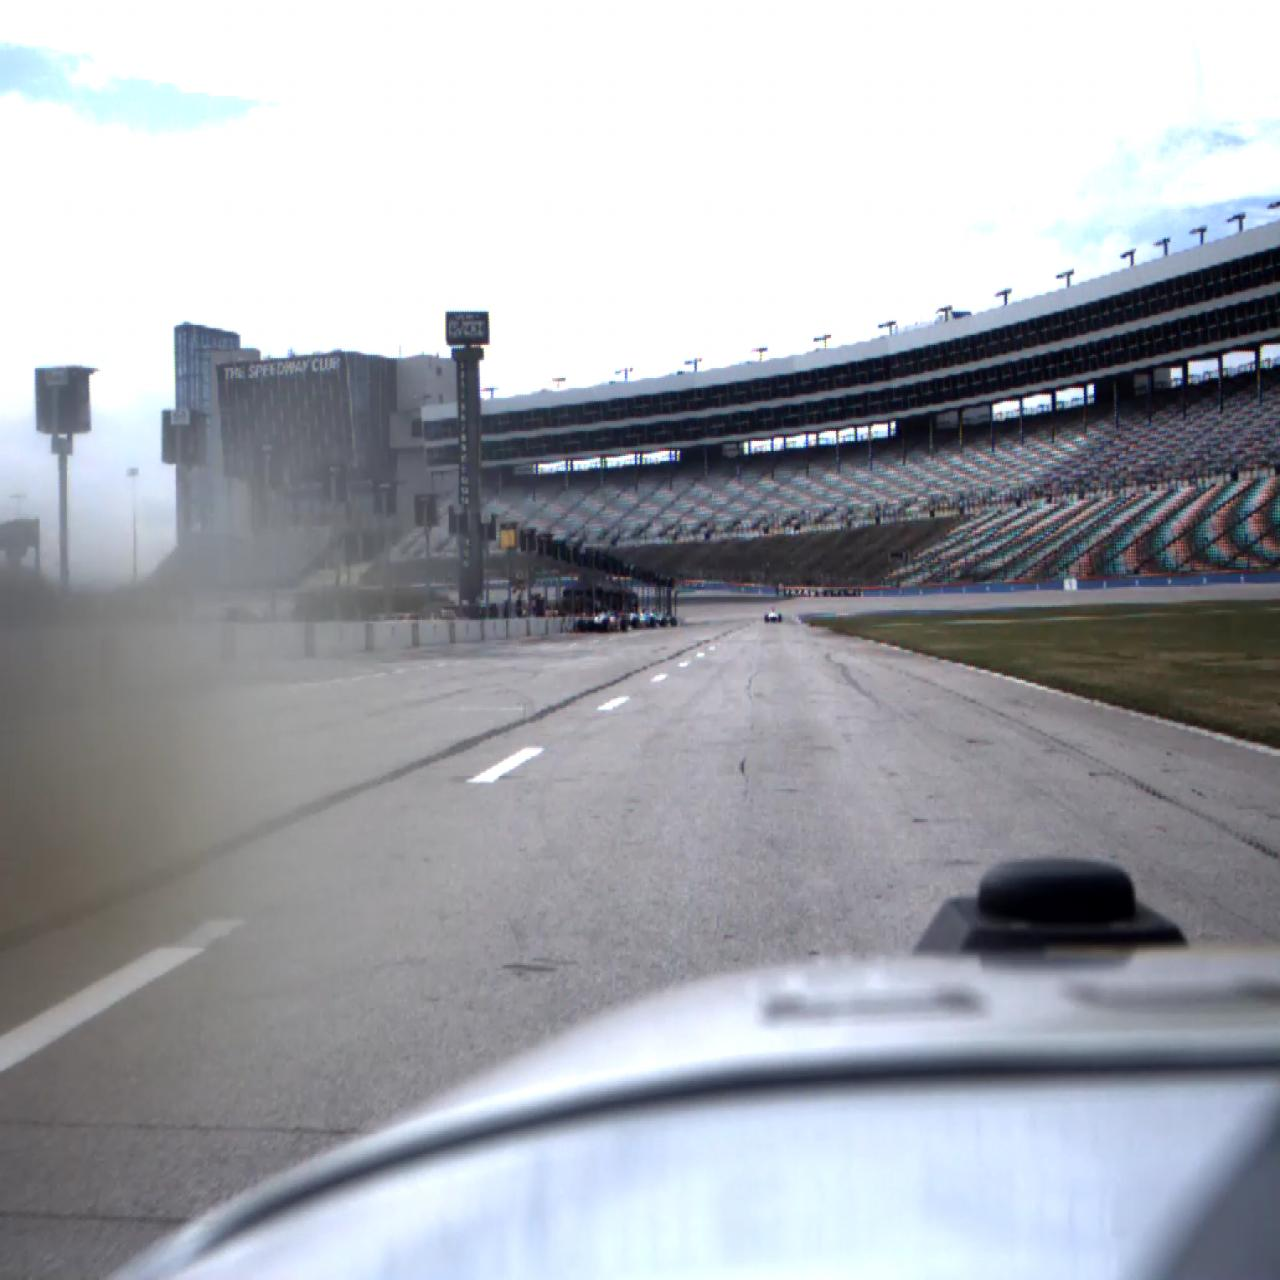AV: (765, 607, 782, 622)
Wheel: (602, 617, 611, 633), (620, 617, 627, 632), (632, 617, 639, 631), (578, 620, 585, 632), (660, 617, 667, 627), (651, 617, 656, 628), (670, 618, 676, 627), (764, 614, 769, 622), (779, 614, 782, 622)
